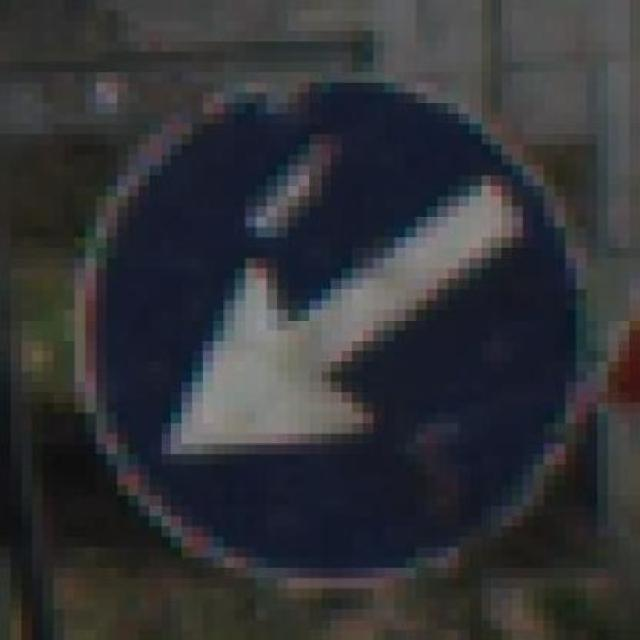Keep-Left: (64, 61, 608, 598)
